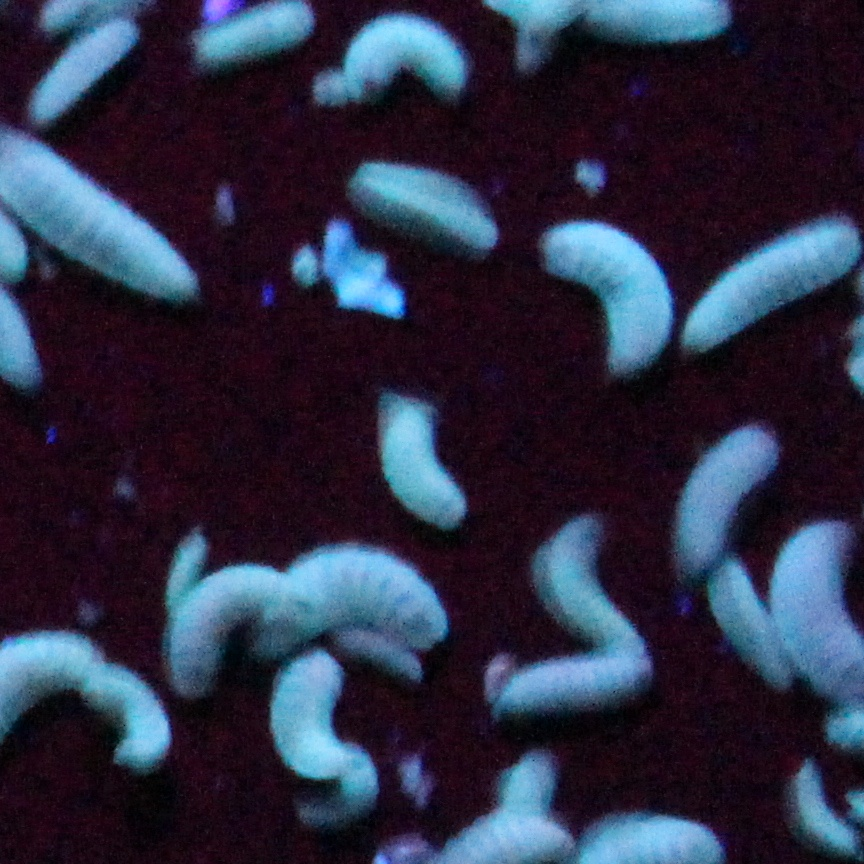larve: (680, 215, 864, 352), (539, 215, 670, 377), (257, 542, 451, 644), (530, 506, 649, 656), (678, 421, 780, 581), (168, 560, 282, 687), (22, 15, 143, 133), (349, 169, 499, 254), (705, 560, 797, 694), (378, 396, 472, 521), (339, 10, 472, 92), (266, 646, 343, 771), (487, 656, 662, 710), (89, 662, 172, 771), (789, 760, 864, 854)
